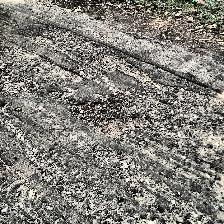pothole: (69, 96, 150, 138)
